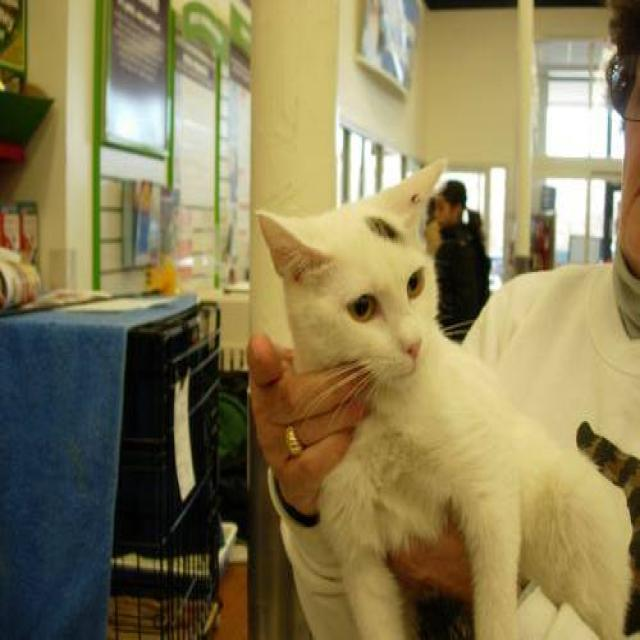cat: (252, 159, 639, 638)
